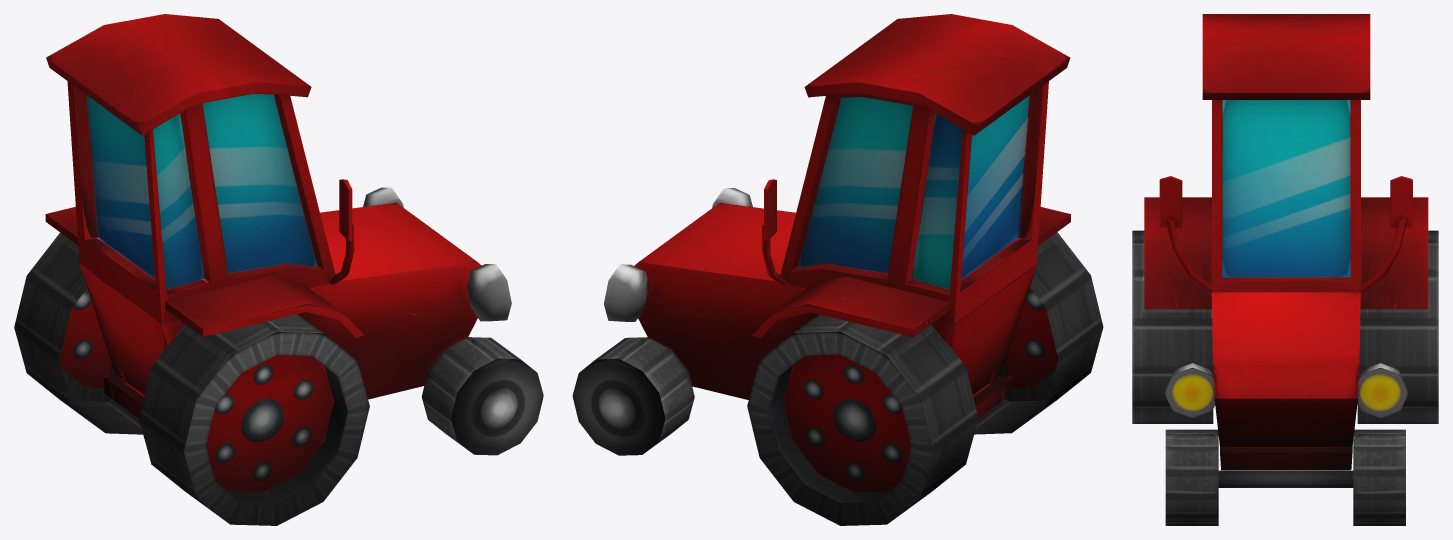
The model's file is Traktor.fbx.
3 views of the same model, side by side, from view 1: azimuth 30°, elevation 25°; view 2: azimuth 150°, elevation 25°; view 3: azimuth 270°, elevation 25° (orthographic). The views are drawn at different scales.
Parts seen in each view (by area): view 1: Traktor; view 2: Traktor; view 3: Traktor.
Part boxes in pixels (<box>): Traktor: <box>14,14,543,525</box>; Traktor: <box>572,14,1103,525</box>; Traktor: <box>1132,14,1438,525</box>.
Bounding box in the file's own units: 400 × 413 × 306.
1 material, 1 textured.
